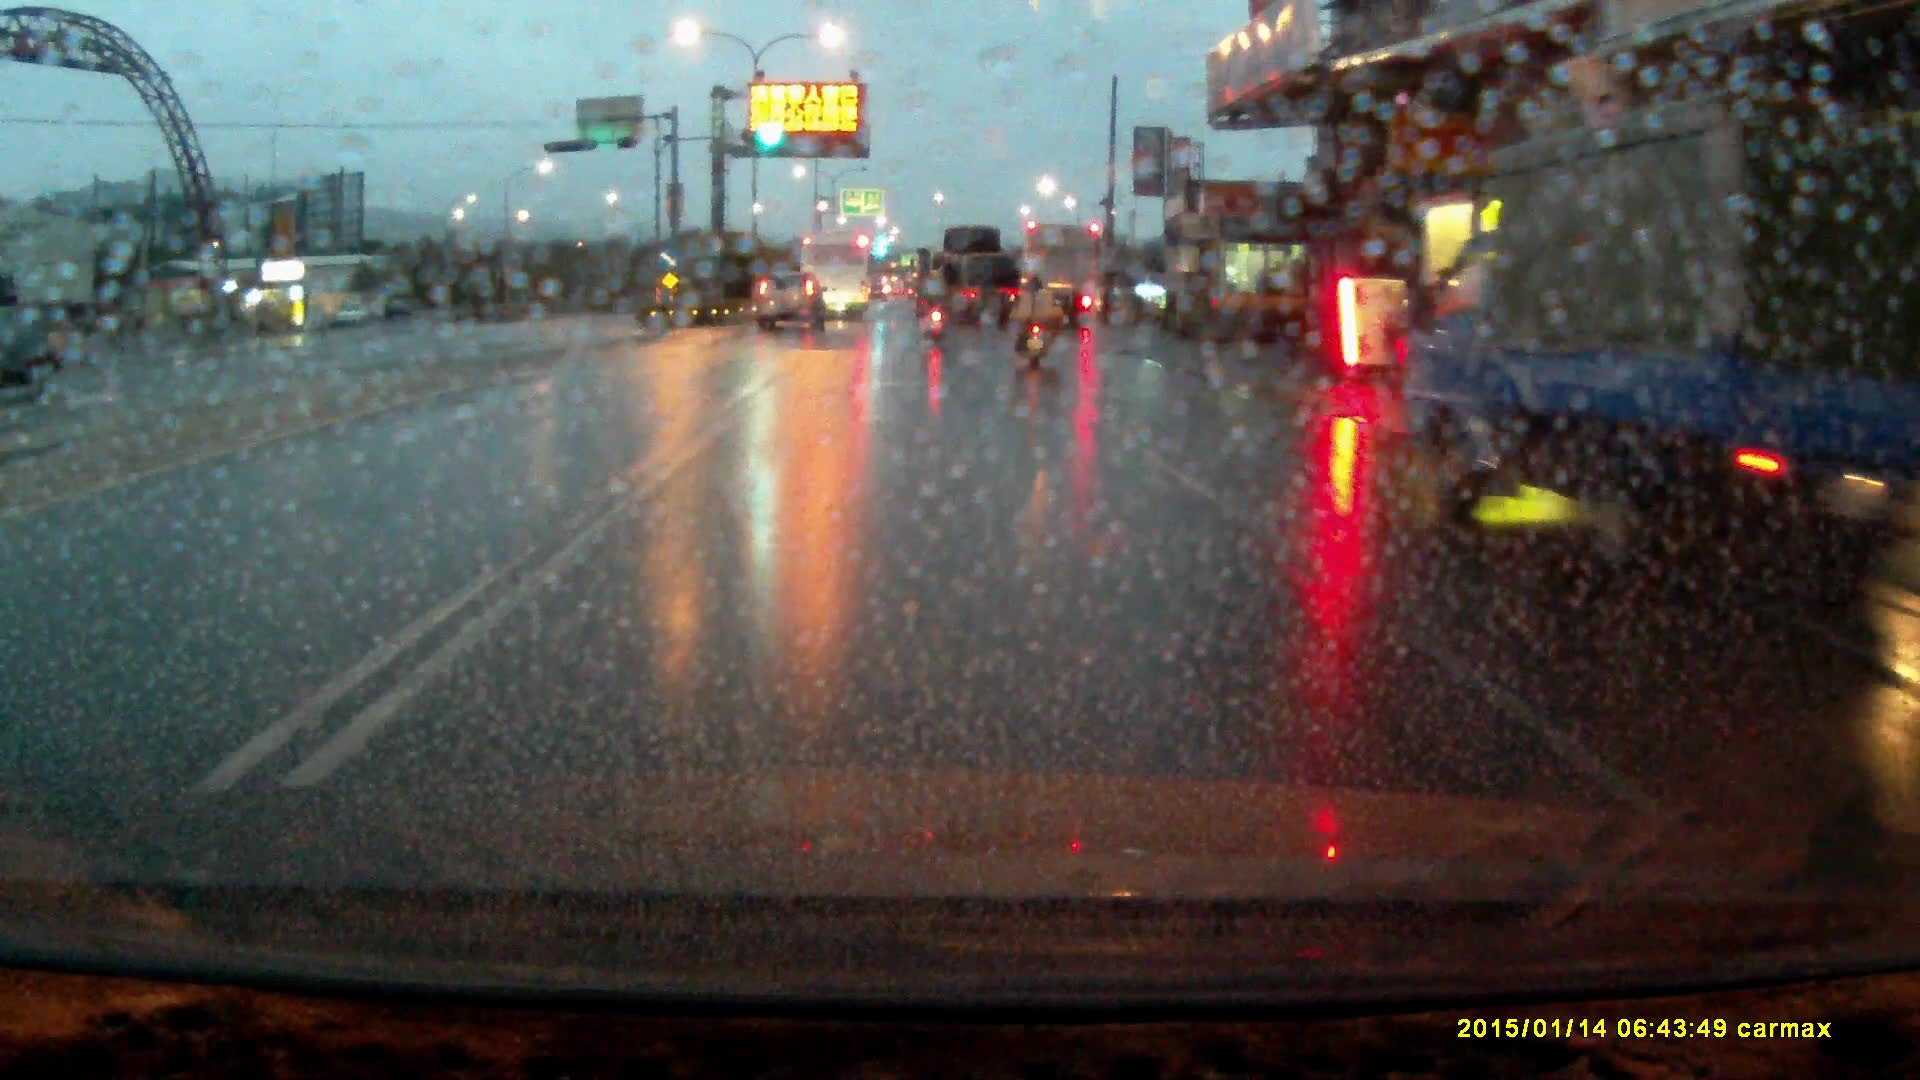rider: (1014, 271, 1052, 371), (924, 276, 948, 345)
vehicle: (1398, 85, 1874, 576), (930, 232, 1024, 344), (1023, 230, 1106, 331), (800, 236, 874, 329), (1, 324, 66, 404), (757, 278, 824, 340)
